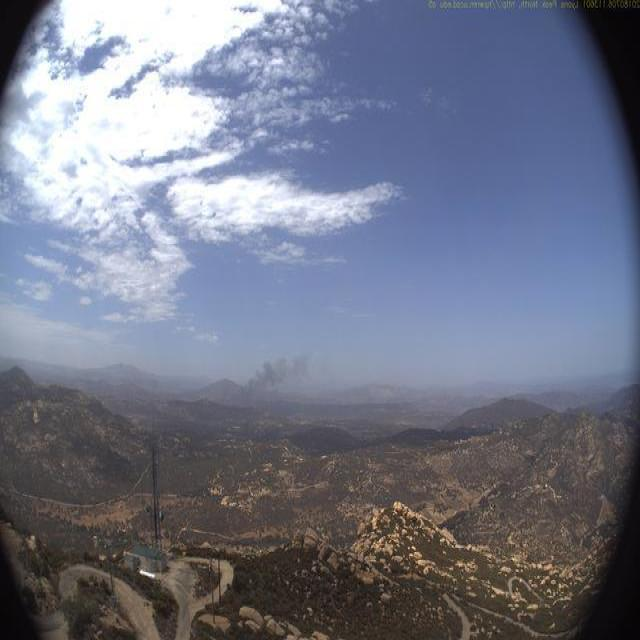Smoke: (228, 339, 333, 408)
